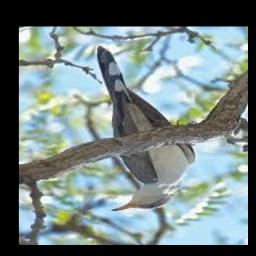Cuckoo: (96, 46, 195, 212)
